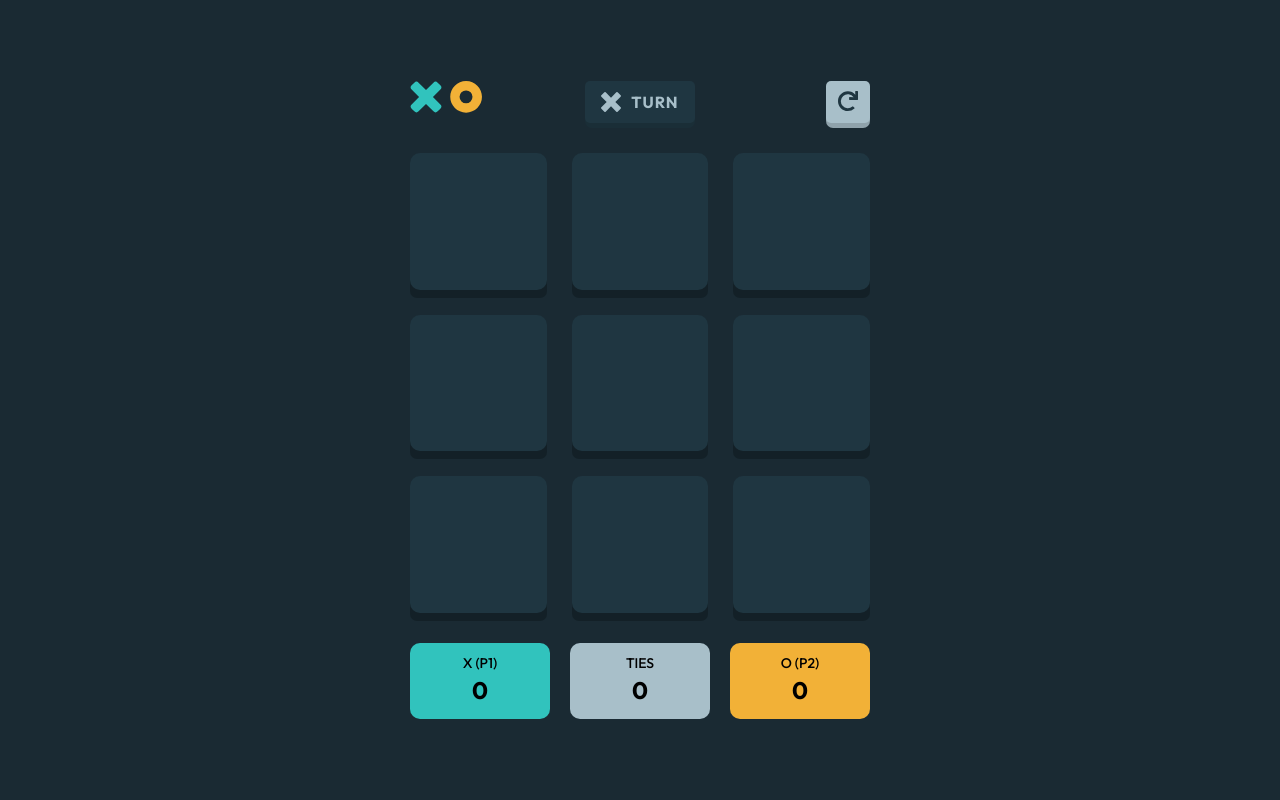
Test: game modal when winner › game win, player x wins the game
The width and height of the screenshot is (1280, 800).
Click the button with test id "0,0": {"x": 478, "y": 221} [410,153,547,290]
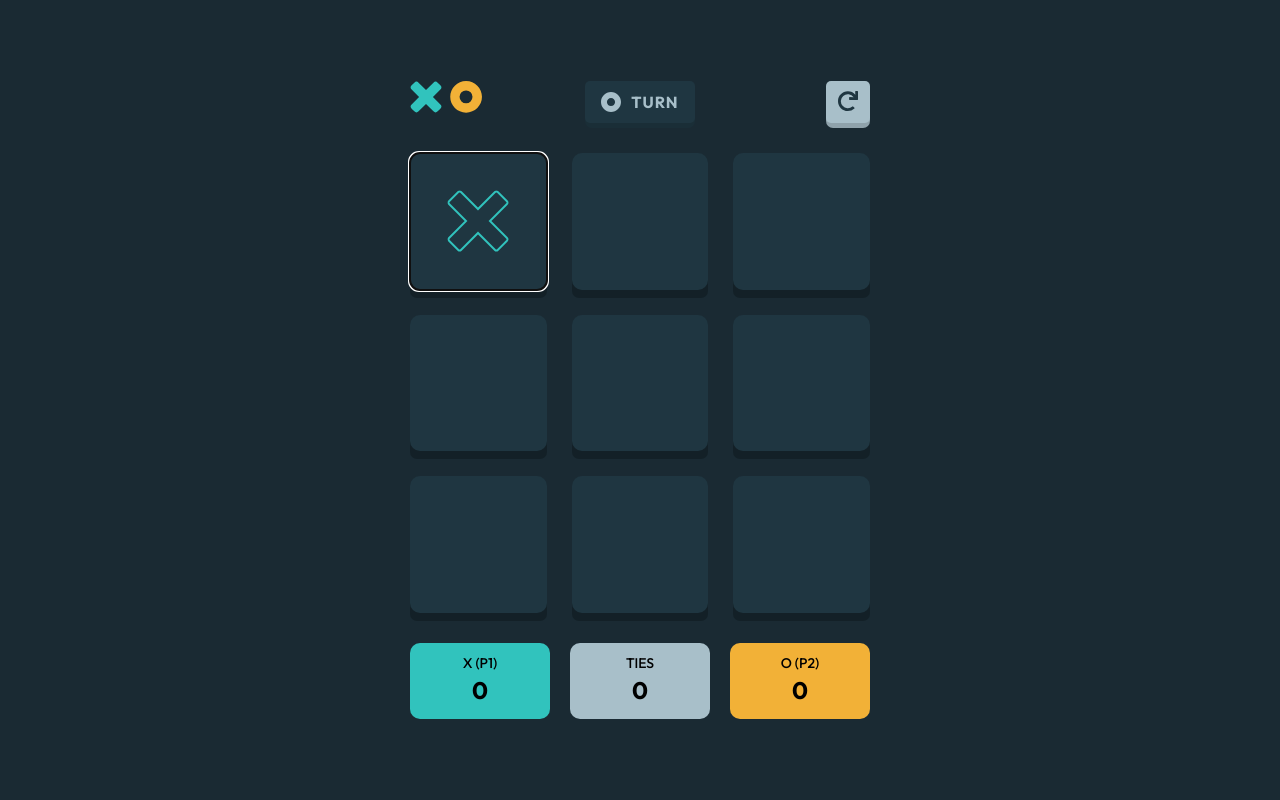
Click the button with test id "2,2": {"x": 802, "y": 545} [733,476,870,613]
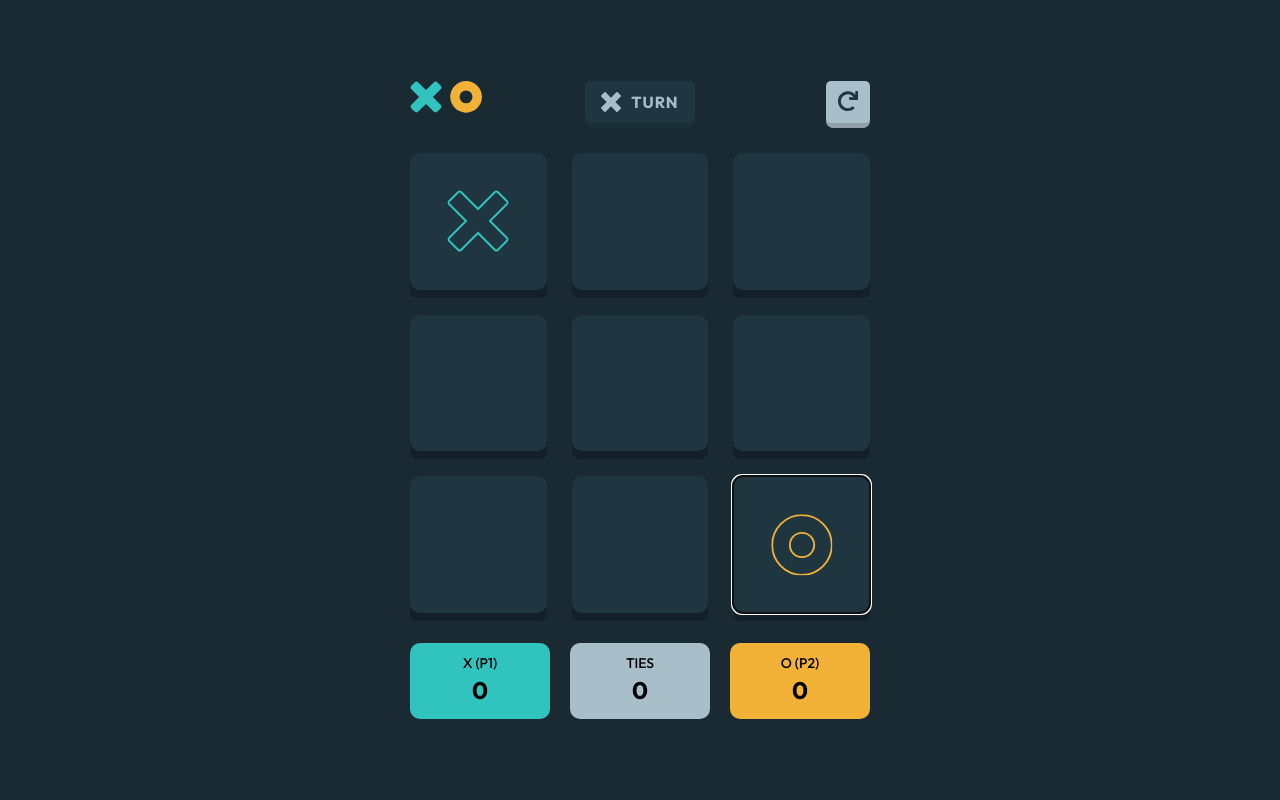
Click the button with test id "0,1": {"x": 640, "y": 221} [572,153,708,290]
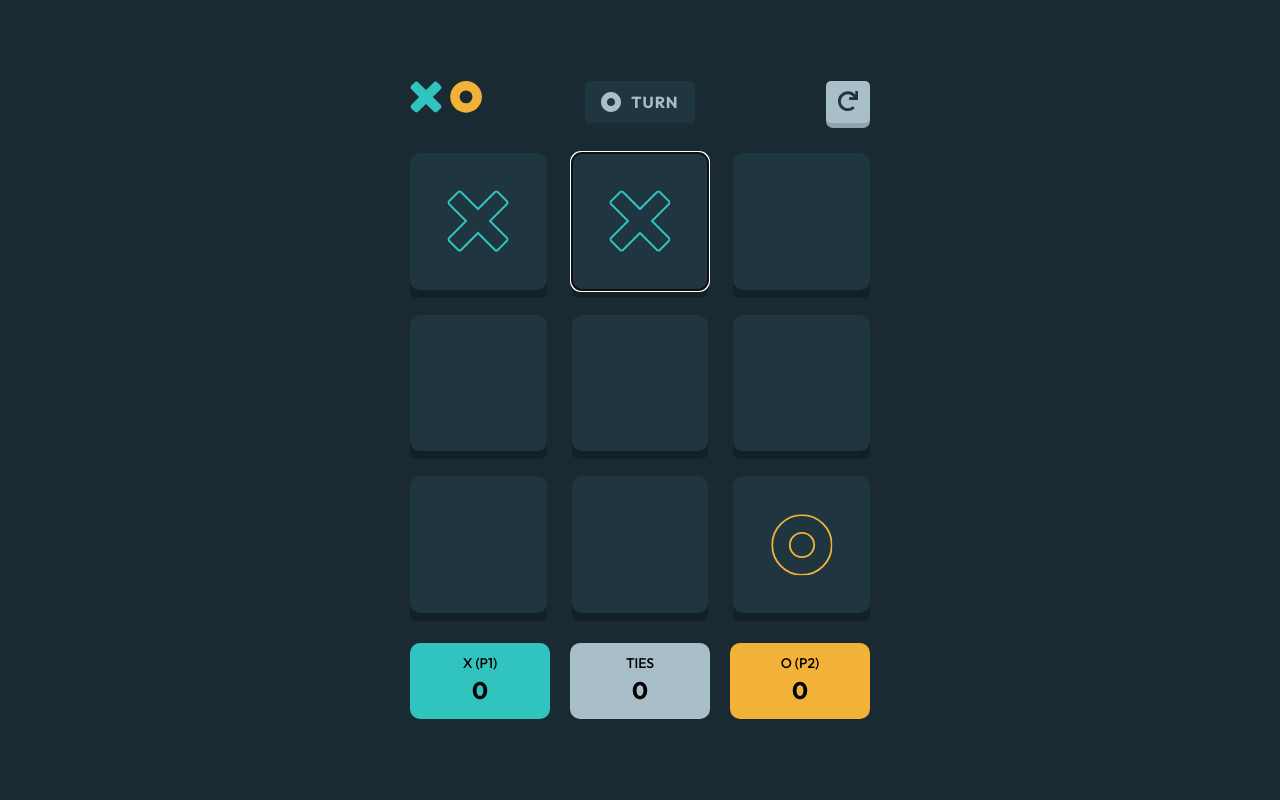
Click the button with test id "2,1": {"x": 640, "y": 545} [572,476,708,613]
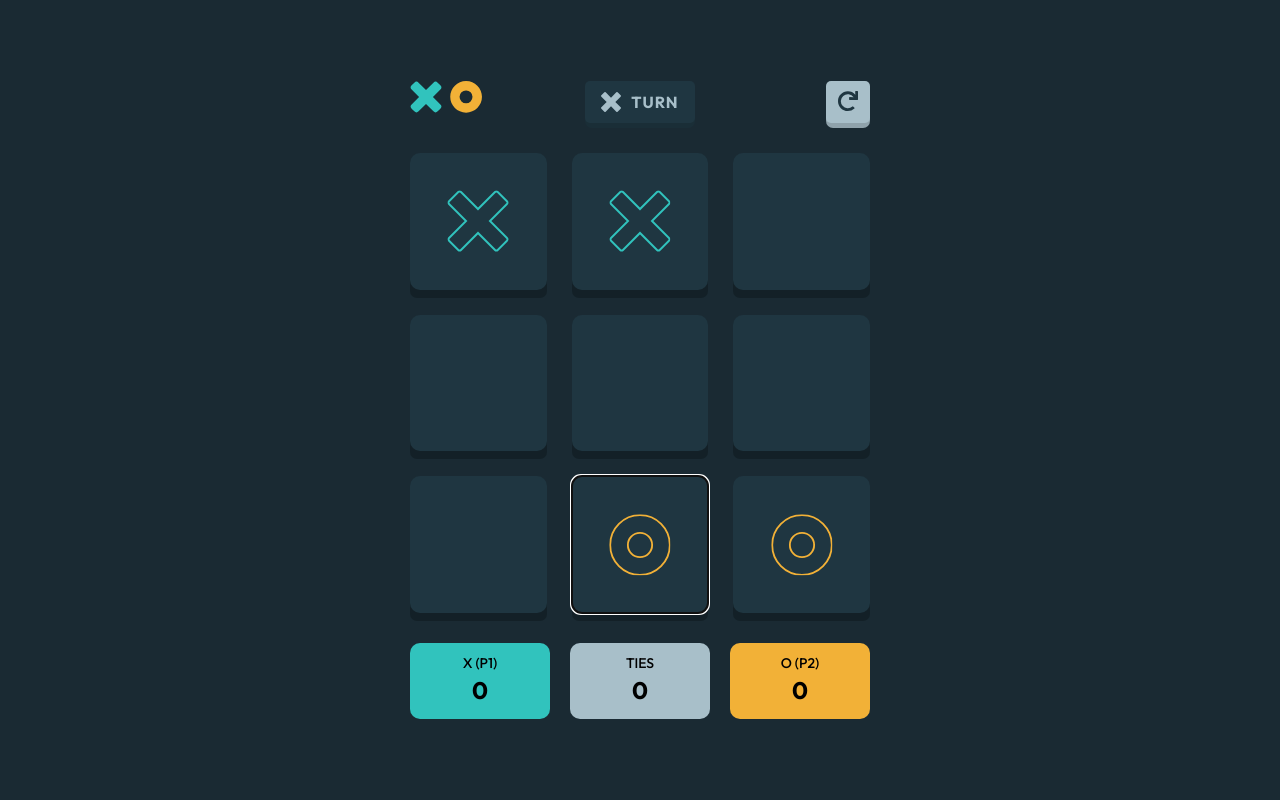
Click the button with test id "0,2": {"x": 802, "y": 221} [733,153,870,290]
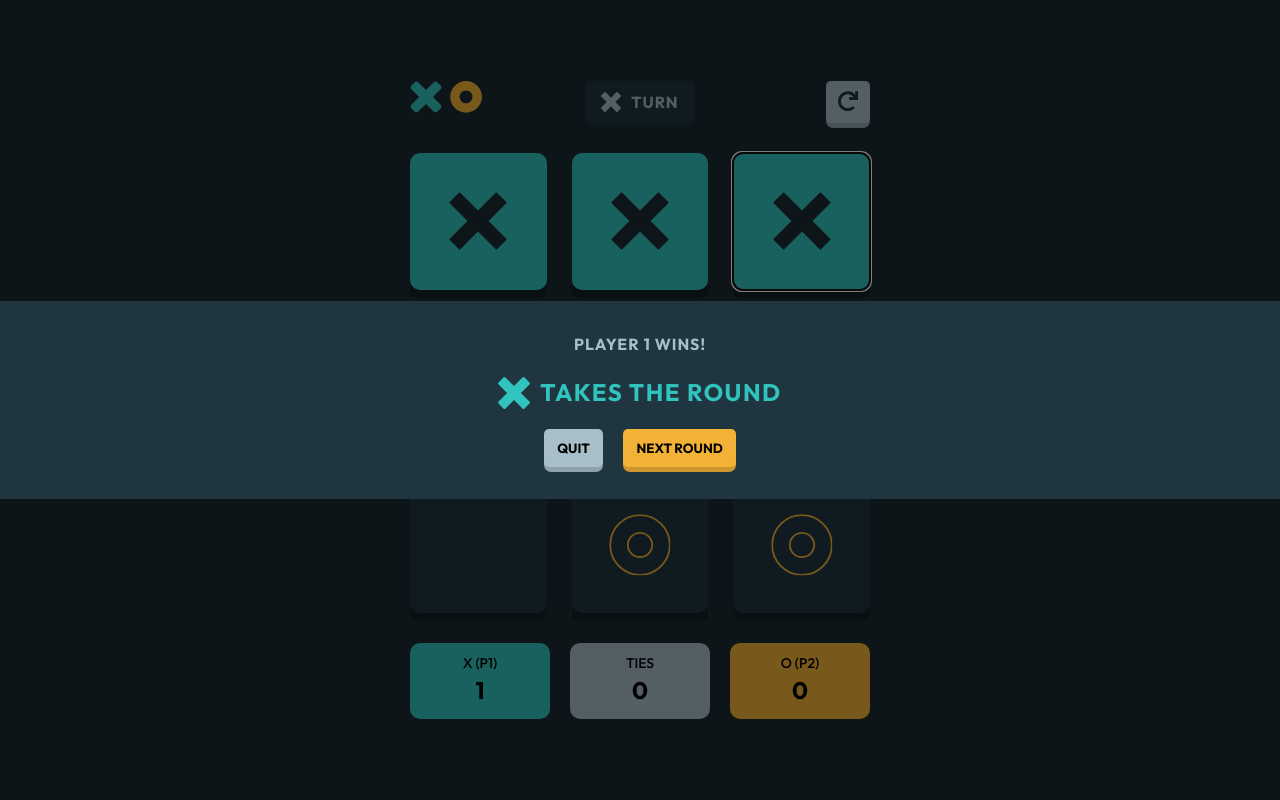
Check: the element with test id "gameModal" is shown
